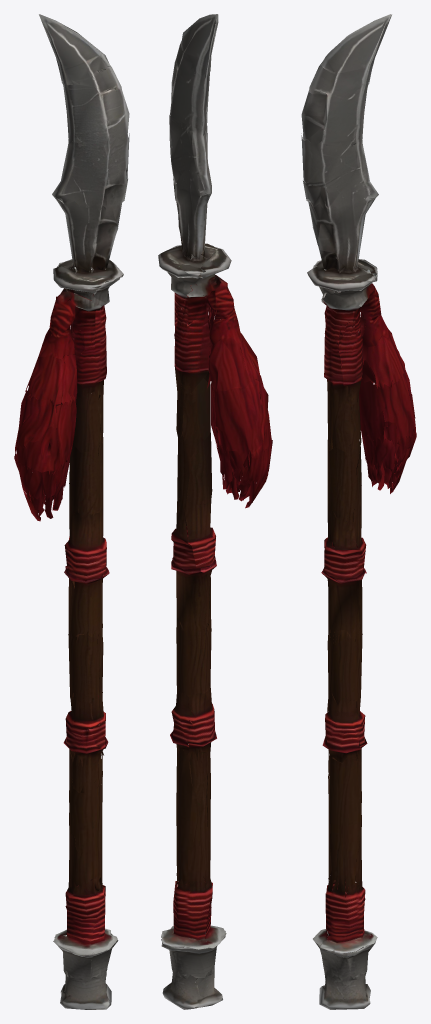
Rendered from Weapon_T1.fbx.
3 views of the same model, side by side, from view 1: azimuth 90°, elevation 25°; view 2: azimuth 210°, elevation 25°; view 3: azimuth 270°, elevation 25° (orthographic).
Parts seen in each view (by area): view 1: Vanguard_Weapon; view 2: Vanguard_Weapon; view 3: Vanguard_Weapon.
Part boxes in pixels (x1,y1,x2,y2): Vanguard_Weapon: (14, 14, 129, 1009); Vanguard_Weapon: (158, 14, 272, 1009); Vanguard_Weapon: (301, 14, 416, 1009).
Size of the model in its own units: 0.0909 by 0.9999 by 0.1057.
Materials: 1 (1 with a texture image).
